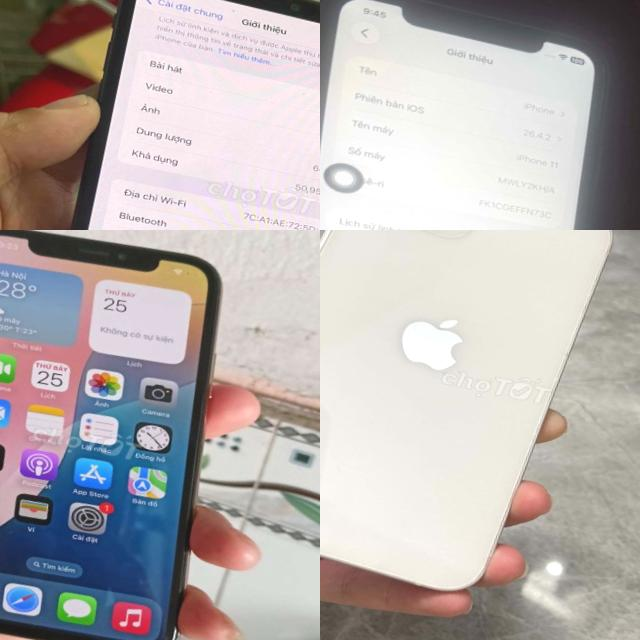gen_11: (320, 0, 640, 230), (30, 0, 320, 230)
gen_12_13: (320, 230, 635, 614)
gen_x_xs: (0, 230, 220, 640)
